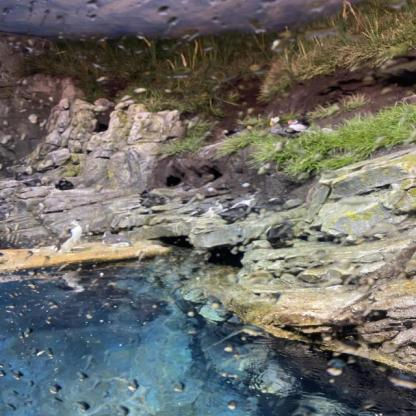puffin: (102, 230, 132, 247), (269, 116, 287, 135), (286, 120, 310, 134), (55, 177, 74, 189), (23, 178, 45, 187)
starfish: (54, 219, 82, 254)
